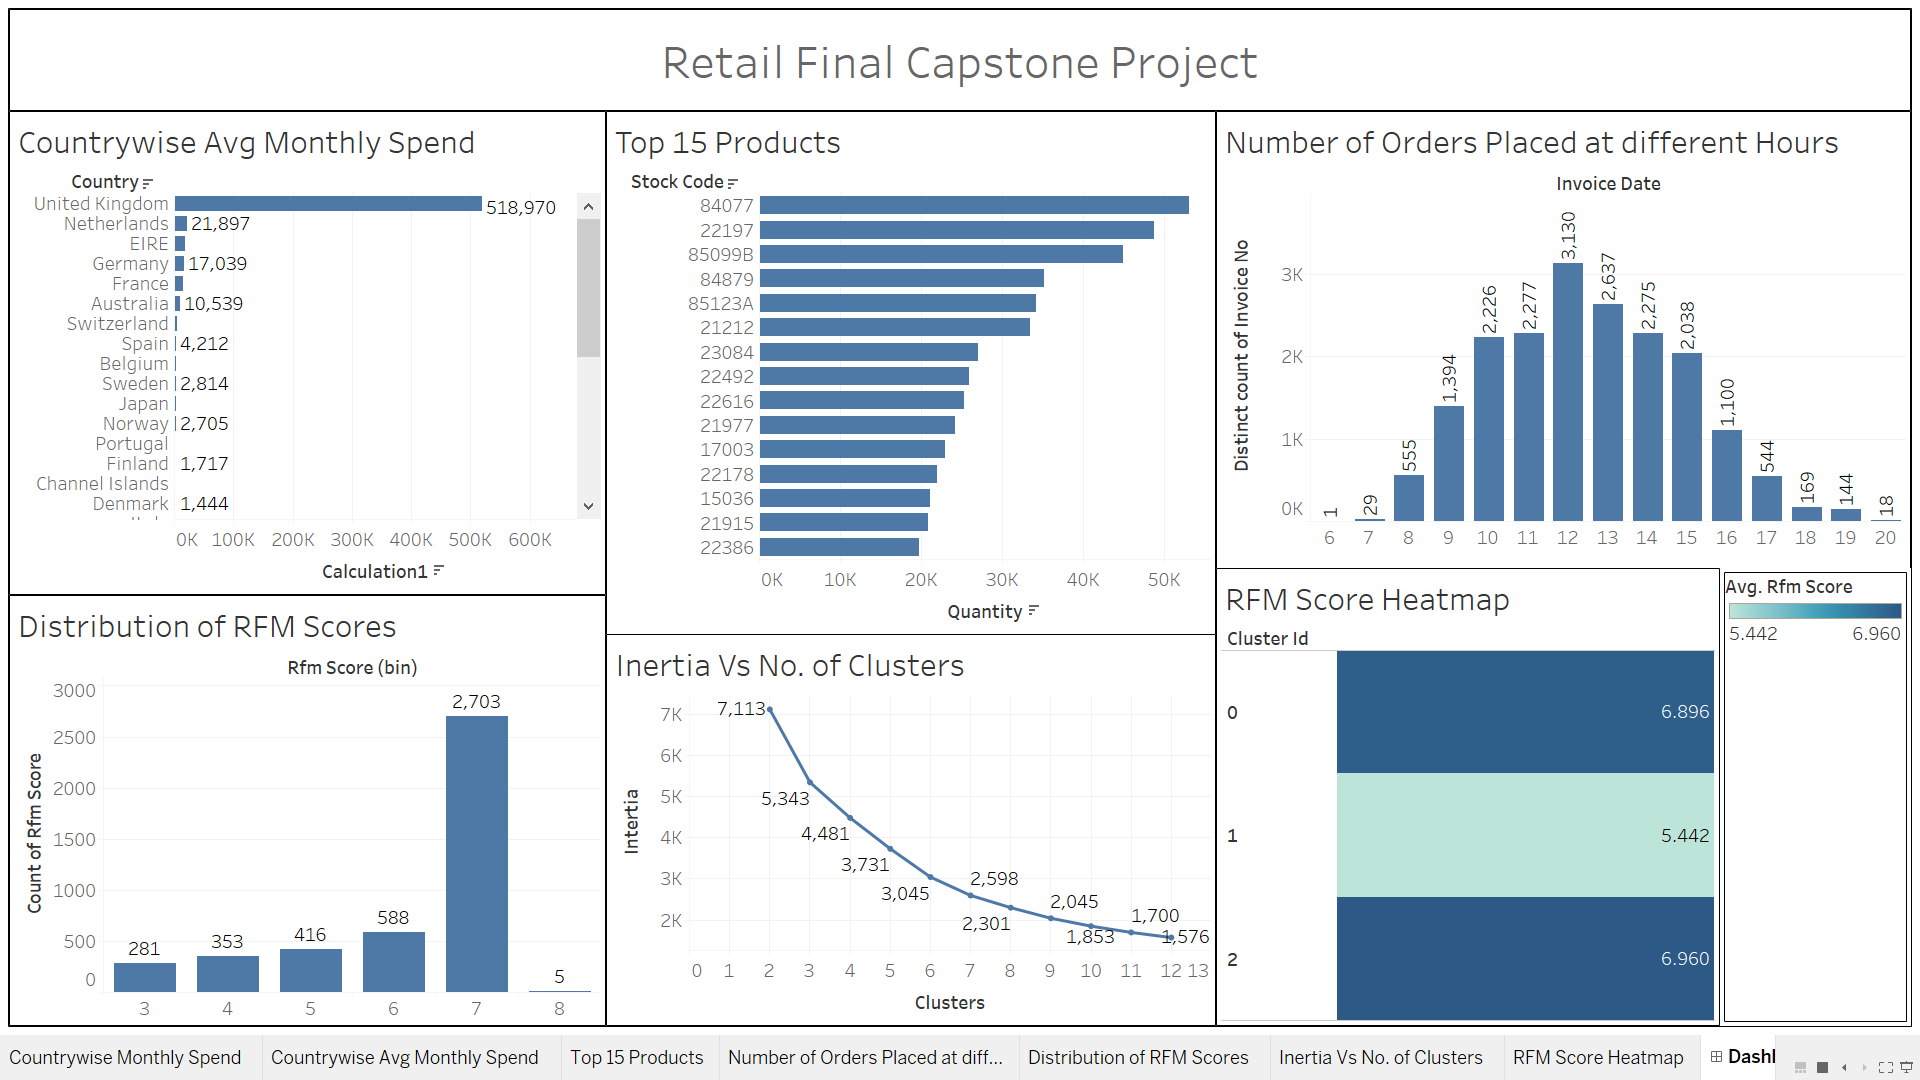

Layout of this report page (visuals, bound fields, positions):
{"tool":"tableau","page":{"name":"Dashboard 1","canvas":[1000,1000],"units":"permille","ordinal":0},"visuals":[{"type":"text","box":[6.7,16.3,986.5,93.7]},{"type":"worksheet","title":"Countrywise Avg Monthly Spend","mark":"Automatic","rows":["Country"],"cols":["Calculation_797700117897322502"],"box":[6.7,113.3,308.8,459]},{"type":"worksheet","title":"Top 15 Products","mark":"Automatic","rows":["StockCode"],"cols":["Quantity"],"box":[316.9,113.3,315.5,496.6]},{"type":"worksheet","title":"Number of Orders Placed at different Hours","mark":"Bar","rows":["InvoiceNo"],"cols":["InvoiceDate"],"box":[633.7,113.3,359.5,433.5]},{"type":"legend","title":"RFM Score Heatmap","param":"[federated.0r5kzff1j9adce14y1nob0v4wix8].[avg:rfm_score:qk]","box":[894.8,548.4,99.1,436.9]},{"type":"worksheet","title":"RFM Score Heatmap","mark":"Automatic","rows":["Cluster_Id"],"box":[633.7,550.1,260.4,433.6]},{"type":"worksheet","title":"Distribution of RFM Scores","mark":"Automatic","rows":["rfm_score"],"cols":["Rfm Score (bin)"],"box":[6.7,575.5,308.8,408.2]},{"type":"worksheet","title":"Inertia Vs No. of Clusters","mark":"Line","rows":["intertia"],"cols":["clusters"],"box":[316.9,613.2,315.5,370.5]}]}

Visuals, with their boxes on the dashboard's canvas, which has no fixed pixel size, in thousandths of its width and height (x1, y1, x2, y2). These are canvas units, not pixel positions in the 1920x1080 screenshot, which may show the page scaled, cropped or inside an application window:
text: x1=7 y1=16 x2=993 y2=110
"Countrywise Avg Monthly Spend" worksheet: x1=7 y1=113 x2=316 y2=572
"Top 15 Products" worksheet: x1=317 y1=113 x2=632 y2=610
"Number of Orders Placed at different Hours" worksheet (Bar marks): x1=634 y1=113 x2=993 y2=547
"RFM Score Heatmap" legend: x1=895 y1=548 x2=994 y2=985
"RFM Score Heatmap" worksheet: x1=634 y1=550 x2=894 y2=984
"Distribution of RFM Scores" worksheet: x1=7 y1=576 x2=316 y2=984
"Inertia Vs No. of Clusters" worksheet (Line marks): x1=317 y1=613 x2=632 y2=984
